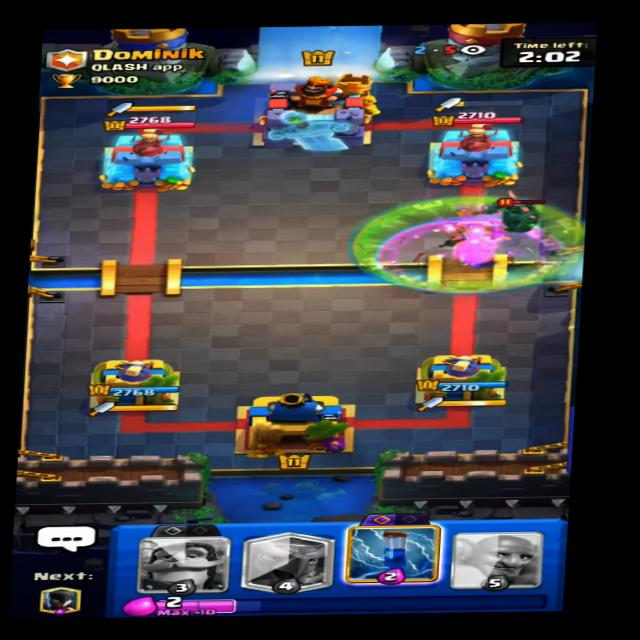Pekka: (466, 190, 549, 237)
